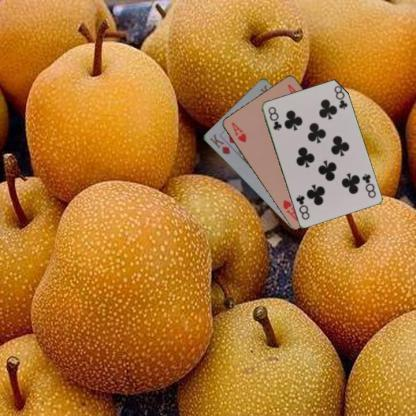8c: (359, 170, 377, 199), (265, 104, 283, 132)
Ah: (229, 119, 247, 144)
Kd: (207, 131, 232, 156)
